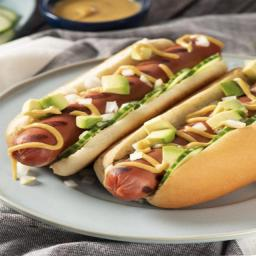hotdog: (8, 29, 224, 169), (95, 78, 256, 208)
